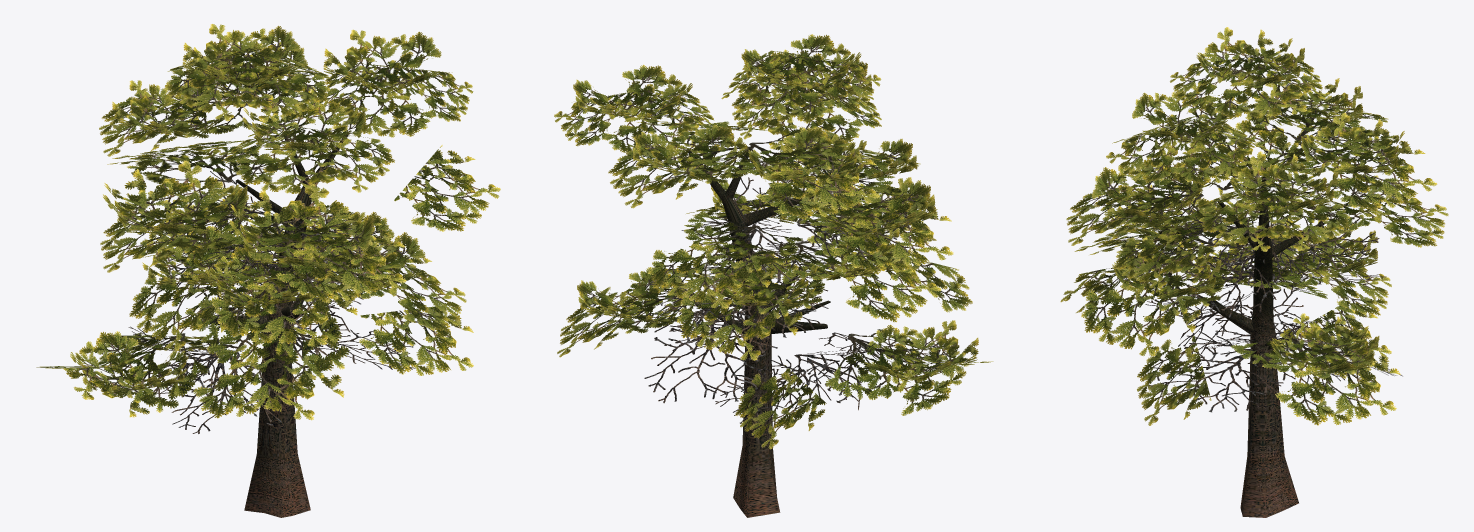
File: flora_tree_oak_hungarian_v2.glb
The picture shows the model from 3 angles, left to right: view 1: azimuth 30°, elevation 25°; view 2: azimuth 150°, elevation 25°; view 3: azimuth 270°, elevation 25°; orthographic projection. The views are drawn at different scales.
Visible parts, largest first — view 1: flora_tree_oak_hungarian_v2_part0, flora_tree_oak_hungarian_v2_part1; view 2: flora_tree_oak_hungarian_v2_part0, flora_tree_oak_hungarian_v2_part1; view 3: flora_tree_oak_hungarian_v2_part0, flora_tree_oak_hungarian_v2_part1.
Part boxes in pixels (<box>): flora_tree_oak_hungarian_v2_part0: <box>36,24,500,517</box>; flora_tree_oak_hungarian_v2_part1: <box>128,171,415,433</box>; flora_tree_oak_hungarian_v2_part0: <box>554,34,993,517</box>; flora_tree_oak_hungarian_v2_part1: <box>644,177,951,423</box>; flora_tree_oak_hungarian_v2_part0: <box>1060,27,1448,517</box>; flora_tree_oak_hungarian_v2_part1: <box>1145,189,1402,412</box>.
Size of the model in its own units: 23.51 by 24.79 by 20.89.
Materials: 2 (2 with a texture image).
